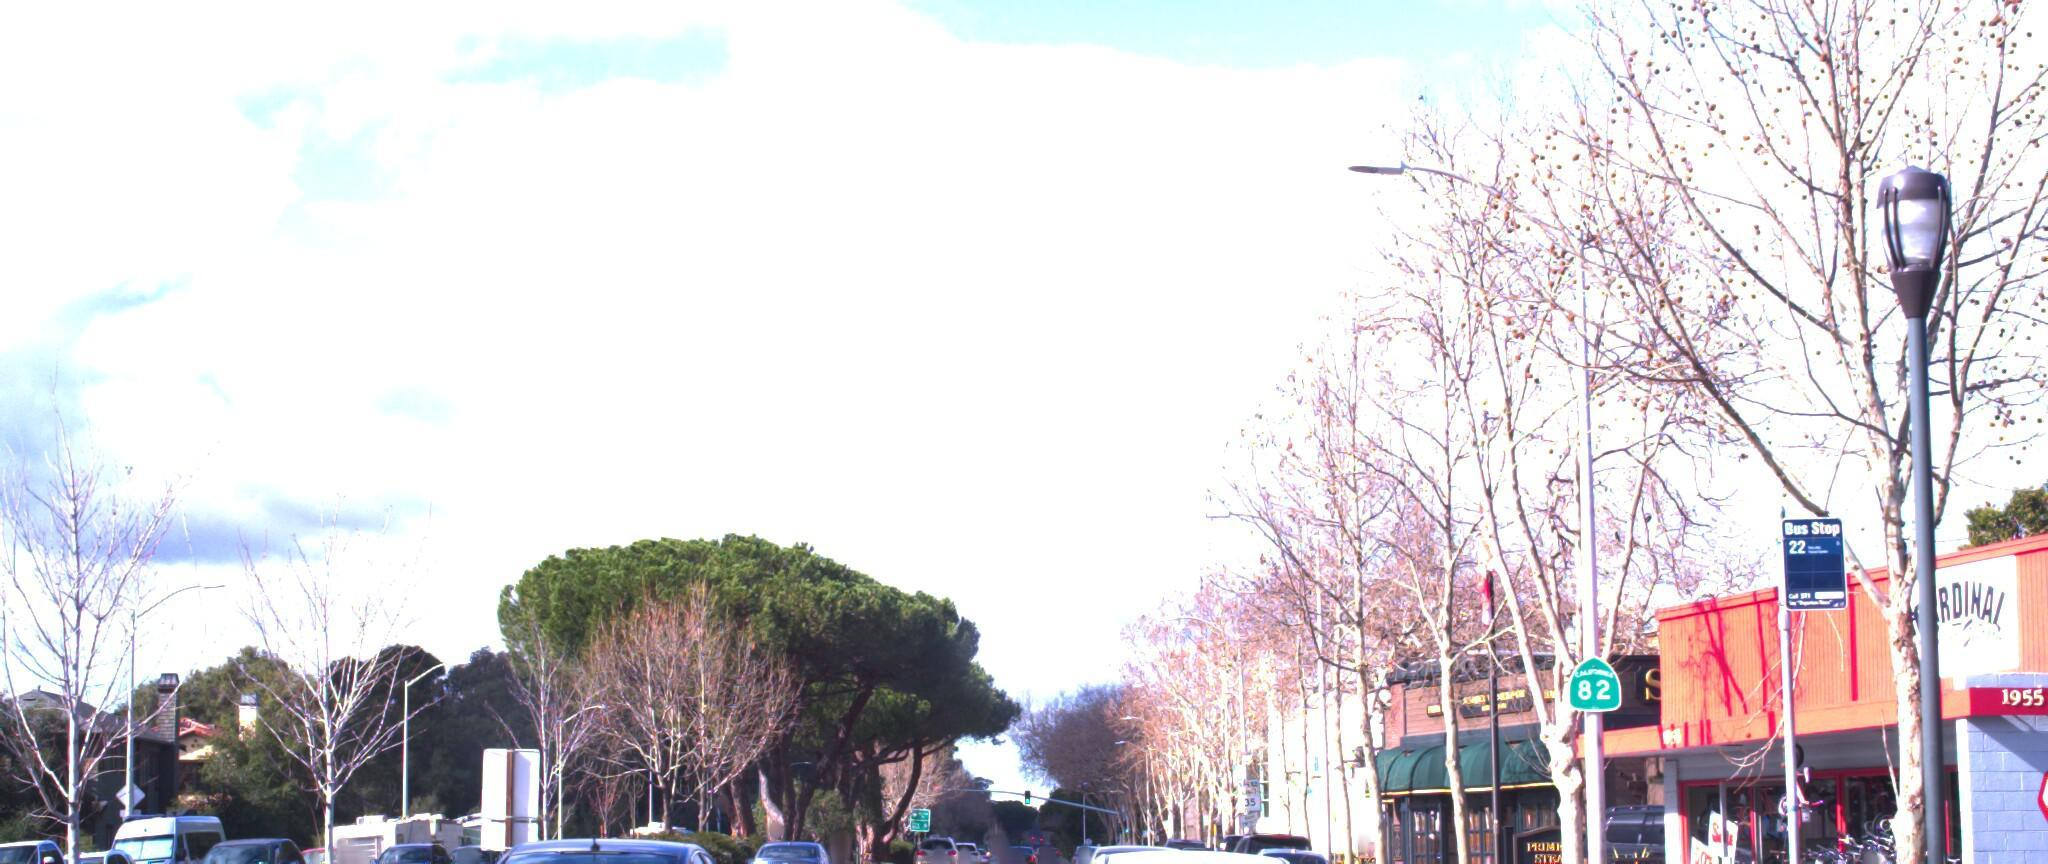bicycle: (1839, 824, 1972, 864), (1732, 861, 1865, 864)
car: (428, 807, 776, 864), (1044, 831, 1358, 864), (172, 825, 312, 864), (39, 829, 168, 864), (0, 822, 108, 864), (741, 820, 842, 864), (1243, 834, 1354, 864), (0, 831, 8, 864)
